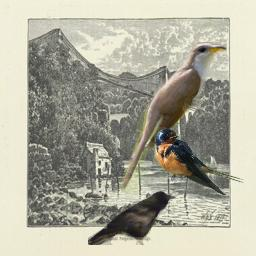Crow: (88, 190, 176, 245)
Cuckoo: (117, 42, 227, 195)
Swallow: (154, 127, 244, 195)
